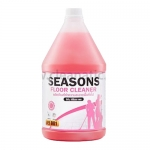Cleaning_solution: (38, 5, 107, 144)
